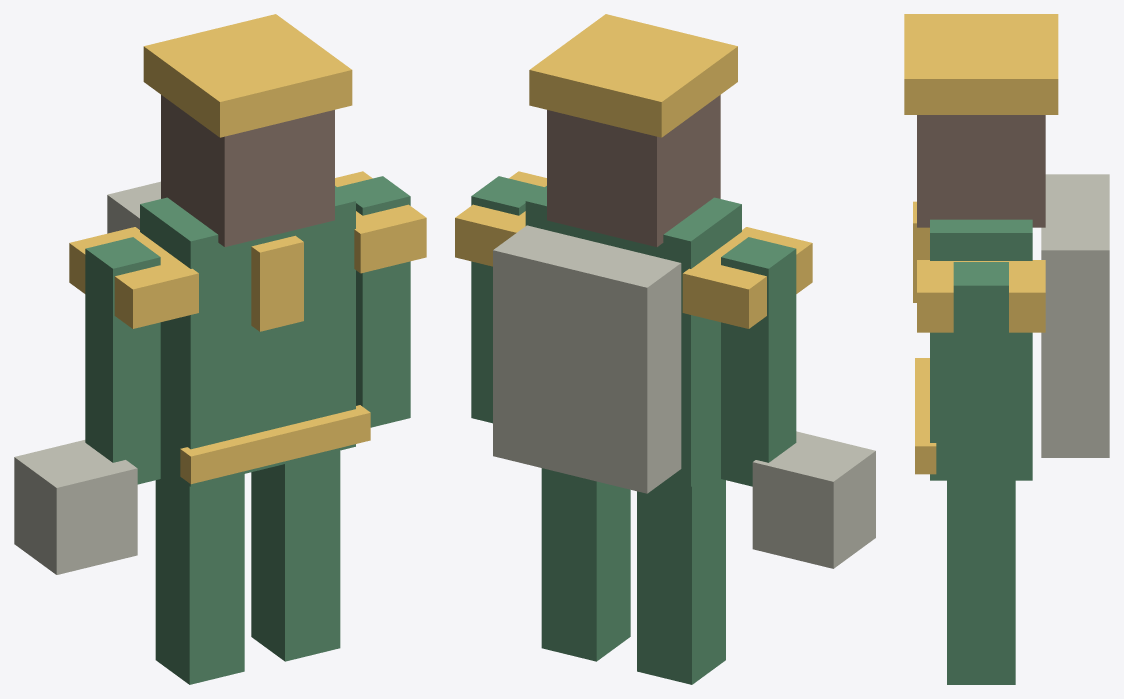
File: 12_vale_voxmere_warden_at_summit.glb
3 renders of one model, left to right at view 1: azimuth 30°, elevation 25°; view 2: azimuth 150°, elevation 25°; view 3: azimuth 270°, elevation 25°, orthographic.
Visible parts, largest first — view 1: Vale Voxmere, Warden at Summit; view 2: Vale Voxmere, Warden at Summit; view 3: Vale Voxmere, Warden at Summit.
Part boxes in pixels (<box>): Vale Voxmere, Warden at Summit: <box>14,14,426,684</box>; Vale Voxmere, Warden at Summit: <box>455,14,875,684</box>; Vale Voxmere, Warden at Summit: <box>904,14,1109,684</box>.
Bounding box in the file's own units: 1.04 × 1.62 × 0.4999.
